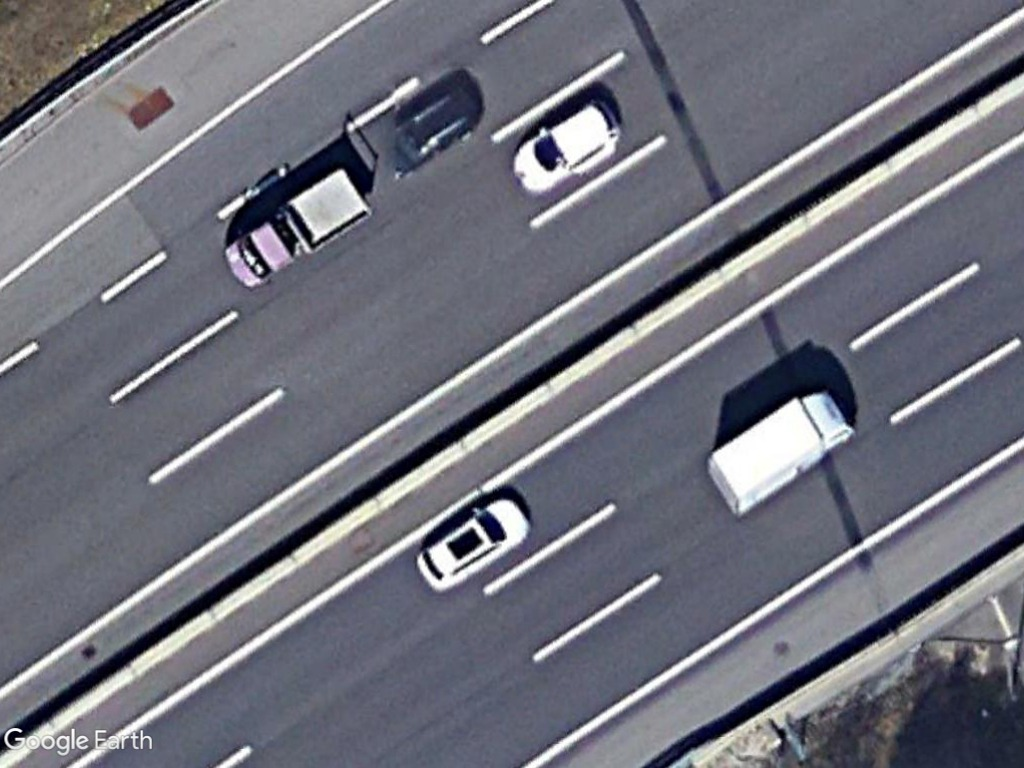car: (415, 491, 532, 598), (509, 98, 627, 202)
others: (221, 162, 374, 289)
truck: (699, 387, 857, 522)
